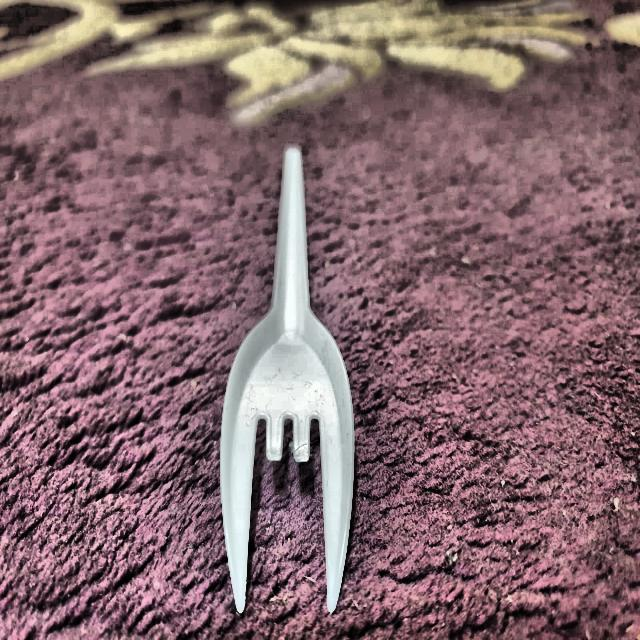plastic utensil: (214, 147, 360, 616)
